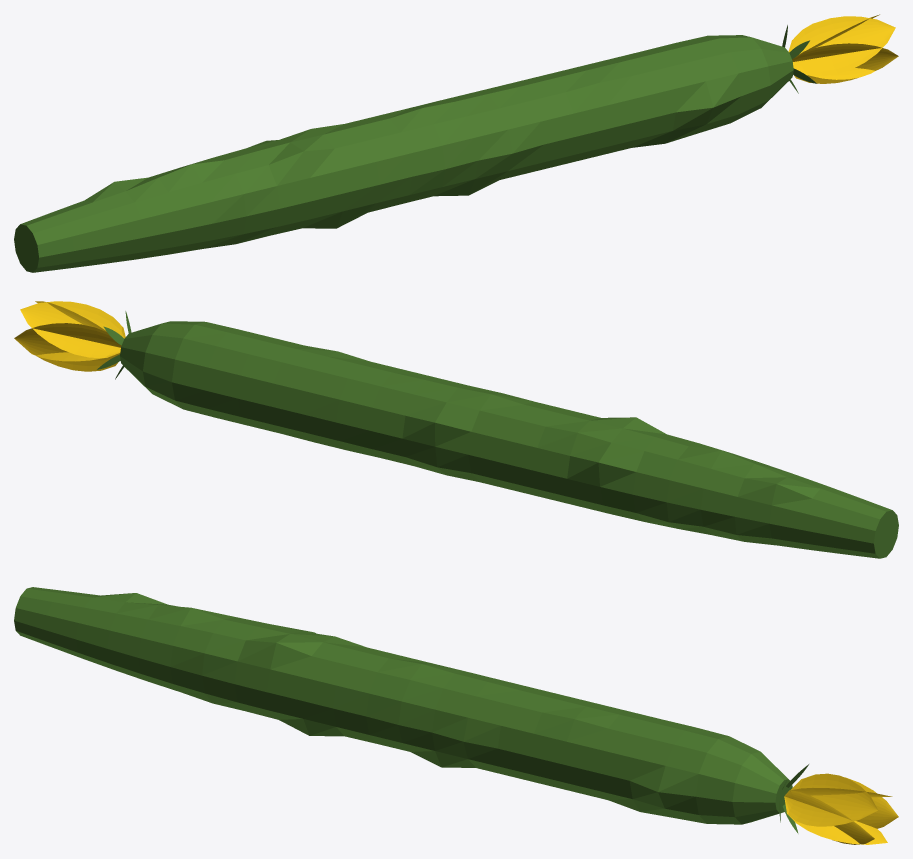
The model's file is flower_closed_04.obj.
3 views of the same model, one above another, from view 1: azimuth 30°, elevation 25°; view 2: azimuth 150°, elevation 25°; view 3: azimuth 330°, elevation 25° (orthographic).
Bounding box in the file's own units: 0.9038 × 0.0887 × 0.0941.
Materials: 1 (1 with a texture image).
